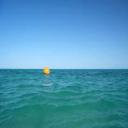yellow: (43, 67, 50, 75)
